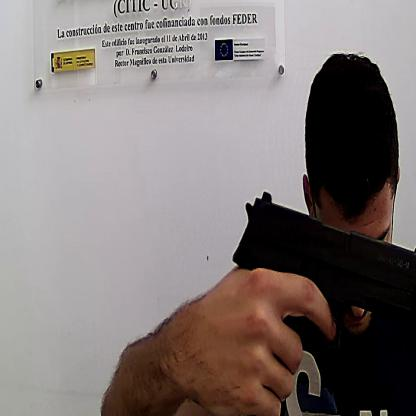gun: (230, 189, 416, 357)
